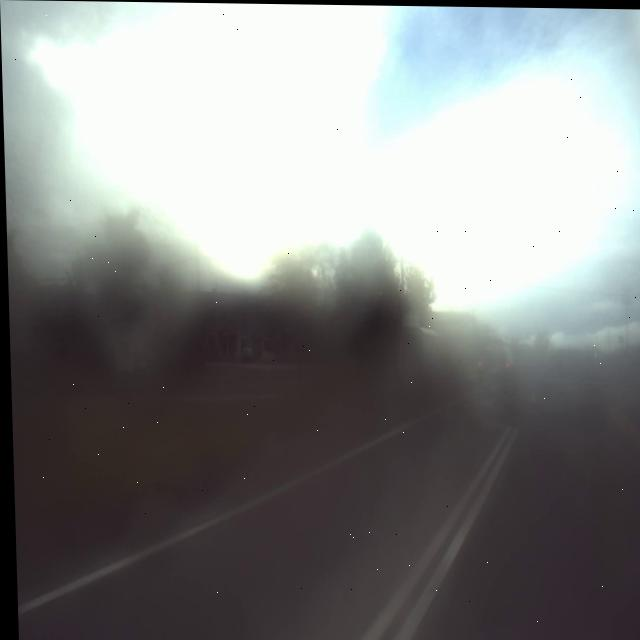car: (471, 339, 516, 390)
